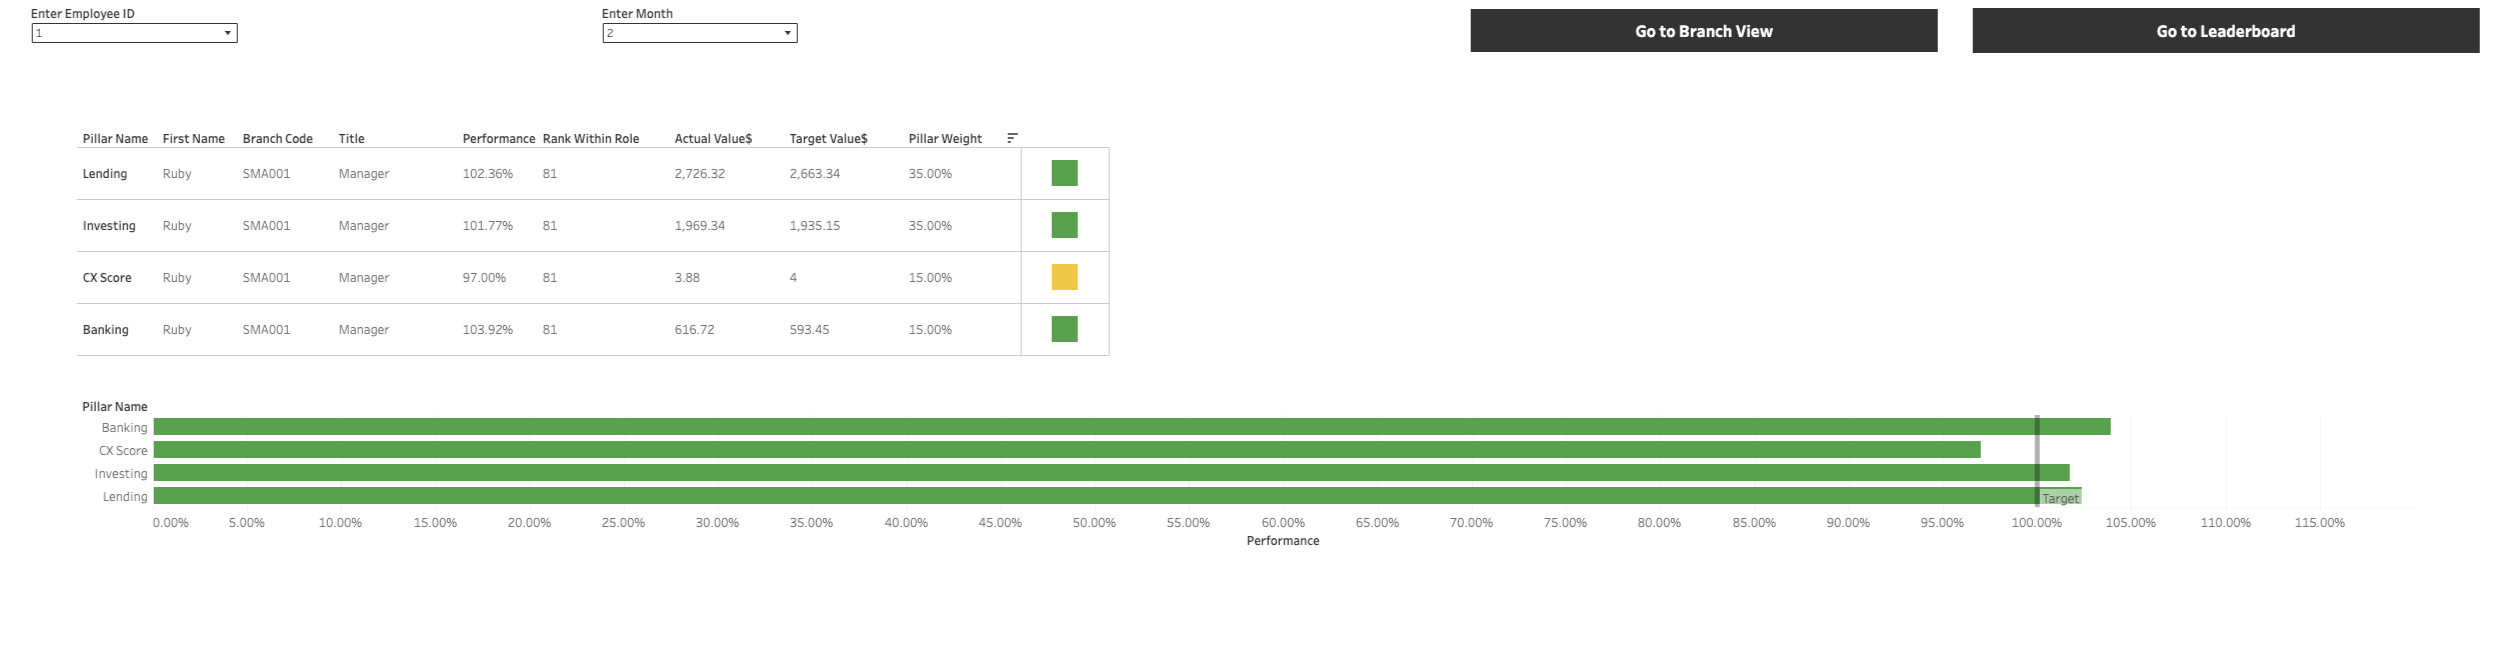

This screenshot's page, from the dashboard's own definition file:
{"tool":"tableau","page":{"name":"FInal My Scorecard ","canvas":[1000,1000],"units":"permille","ordinal":1},"visuals":[{"type":"image","param":"/Users/saran/Downloads/dominion_trust_employee_performance_scorecard_banner.png","box":[3.1,5.7,993.7,988.7]},{"type":"parameter","param":"[Parameters].[Parameter 3623807528333328]","box":[205.2,308.2,116,38.6]},{"type":"parameter","param":"[Parameters].[Parameter 3623807549329428]","box":[400.4,310.7,98.7,36.1]},{"type":"dashboard-object","box":[540.1,310.7,88.4,37.8]},{"type":"dashboard-object","box":[655.6,311.6,91,38.6]},{"type":"parameter","param":"[Parameters].[Parameter 3623807499624452]","box":[32.8,317.6,130.6,32.6]},{"type":"worksheet","title":"mployee - Pillar Table","mark":"Automatic","rows":["pillar_name","branch_code","rank_within_role","rank_within_branch","pct_to_target","branch_id","employee_id","Calculation_3623807514517515","role (fact_targets)","Calculation_3623807517364236","Calculation_3623807520337935"],"box":[33.2,368.6,941.8,297.5]},{"type":"worksheet","title":"Pillars breakdown","mark":"Bar","rows":["pillar_name"],"cols":["pct_to_target"],"box":[30.6,645.3,933.2,255]}]}

Visuals, with their boxes on the dashboard's canvas, which has no fixed pixel size, in thousandths of its width and height (x1, y1, x2, y2). These are canvas units, not pixel positions in the 2505x652 screenshot, which may show the page scaled, cropped or inside an application window:
image: rect(3, 6, 997, 994)
parameter: rect(205, 308, 321, 347)
parameter: rect(400, 311, 499, 347)
dashboard-object: rect(540, 311, 628, 348)
dashboard-object: rect(656, 312, 747, 350)
parameter: rect(33, 318, 163, 350)
"mployee - Pillar Table" worksheet: rect(33, 369, 975, 666)
"Pillars breakdown" worksheet (Bar marks): rect(31, 645, 964, 900)
